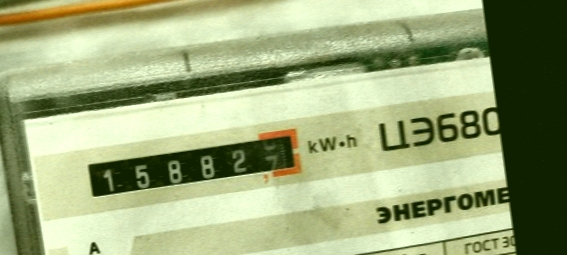1: (99, 166, 116, 196)
2: (228, 148, 248, 177)
5: (130, 162, 152, 192)
7: (261, 153, 279, 172)
8: (163, 158, 183, 188), (197, 153, 215, 183)
screen: (71, 120, 312, 213)
